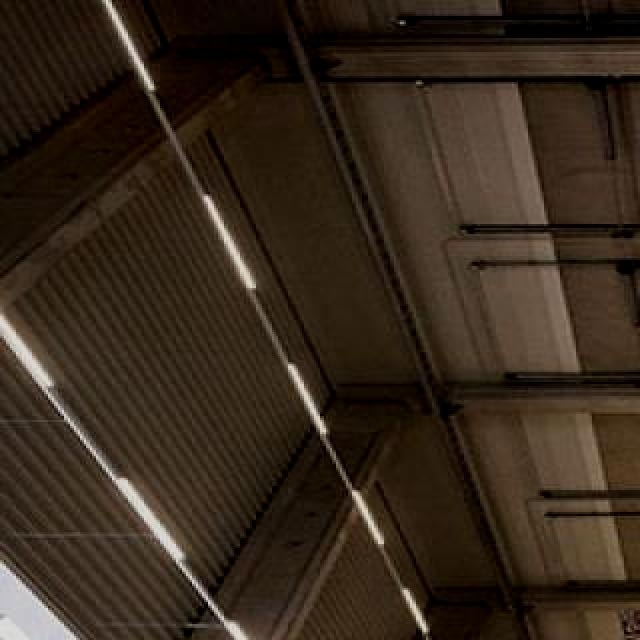fluorescent tube: (89, 0, 189, 118), (113, 466, 207, 577), (198, 184, 271, 309), (0, 307, 78, 404), (276, 331, 340, 449), (337, 480, 406, 562), (386, 569, 437, 636), (218, 616, 288, 640)
